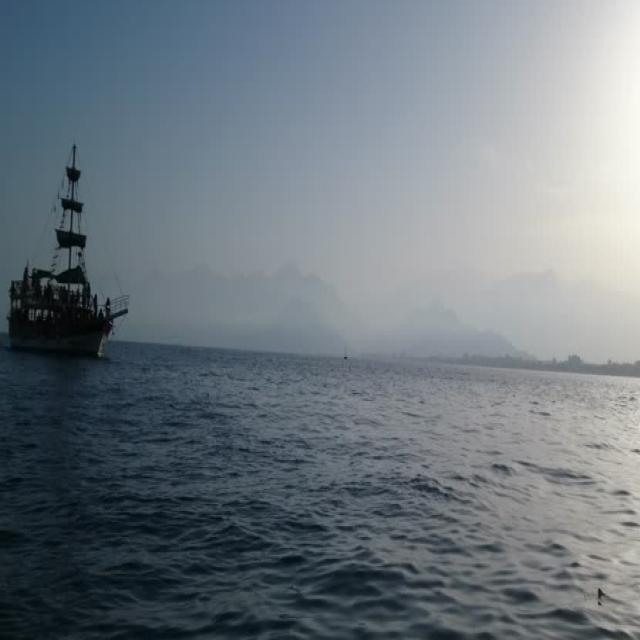fishing boat: (10, 142, 121, 352)
